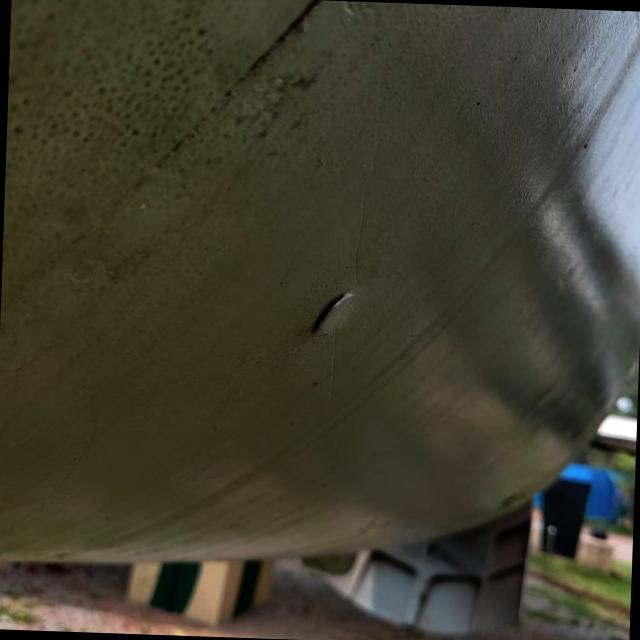crack: (301, 276, 368, 349)
